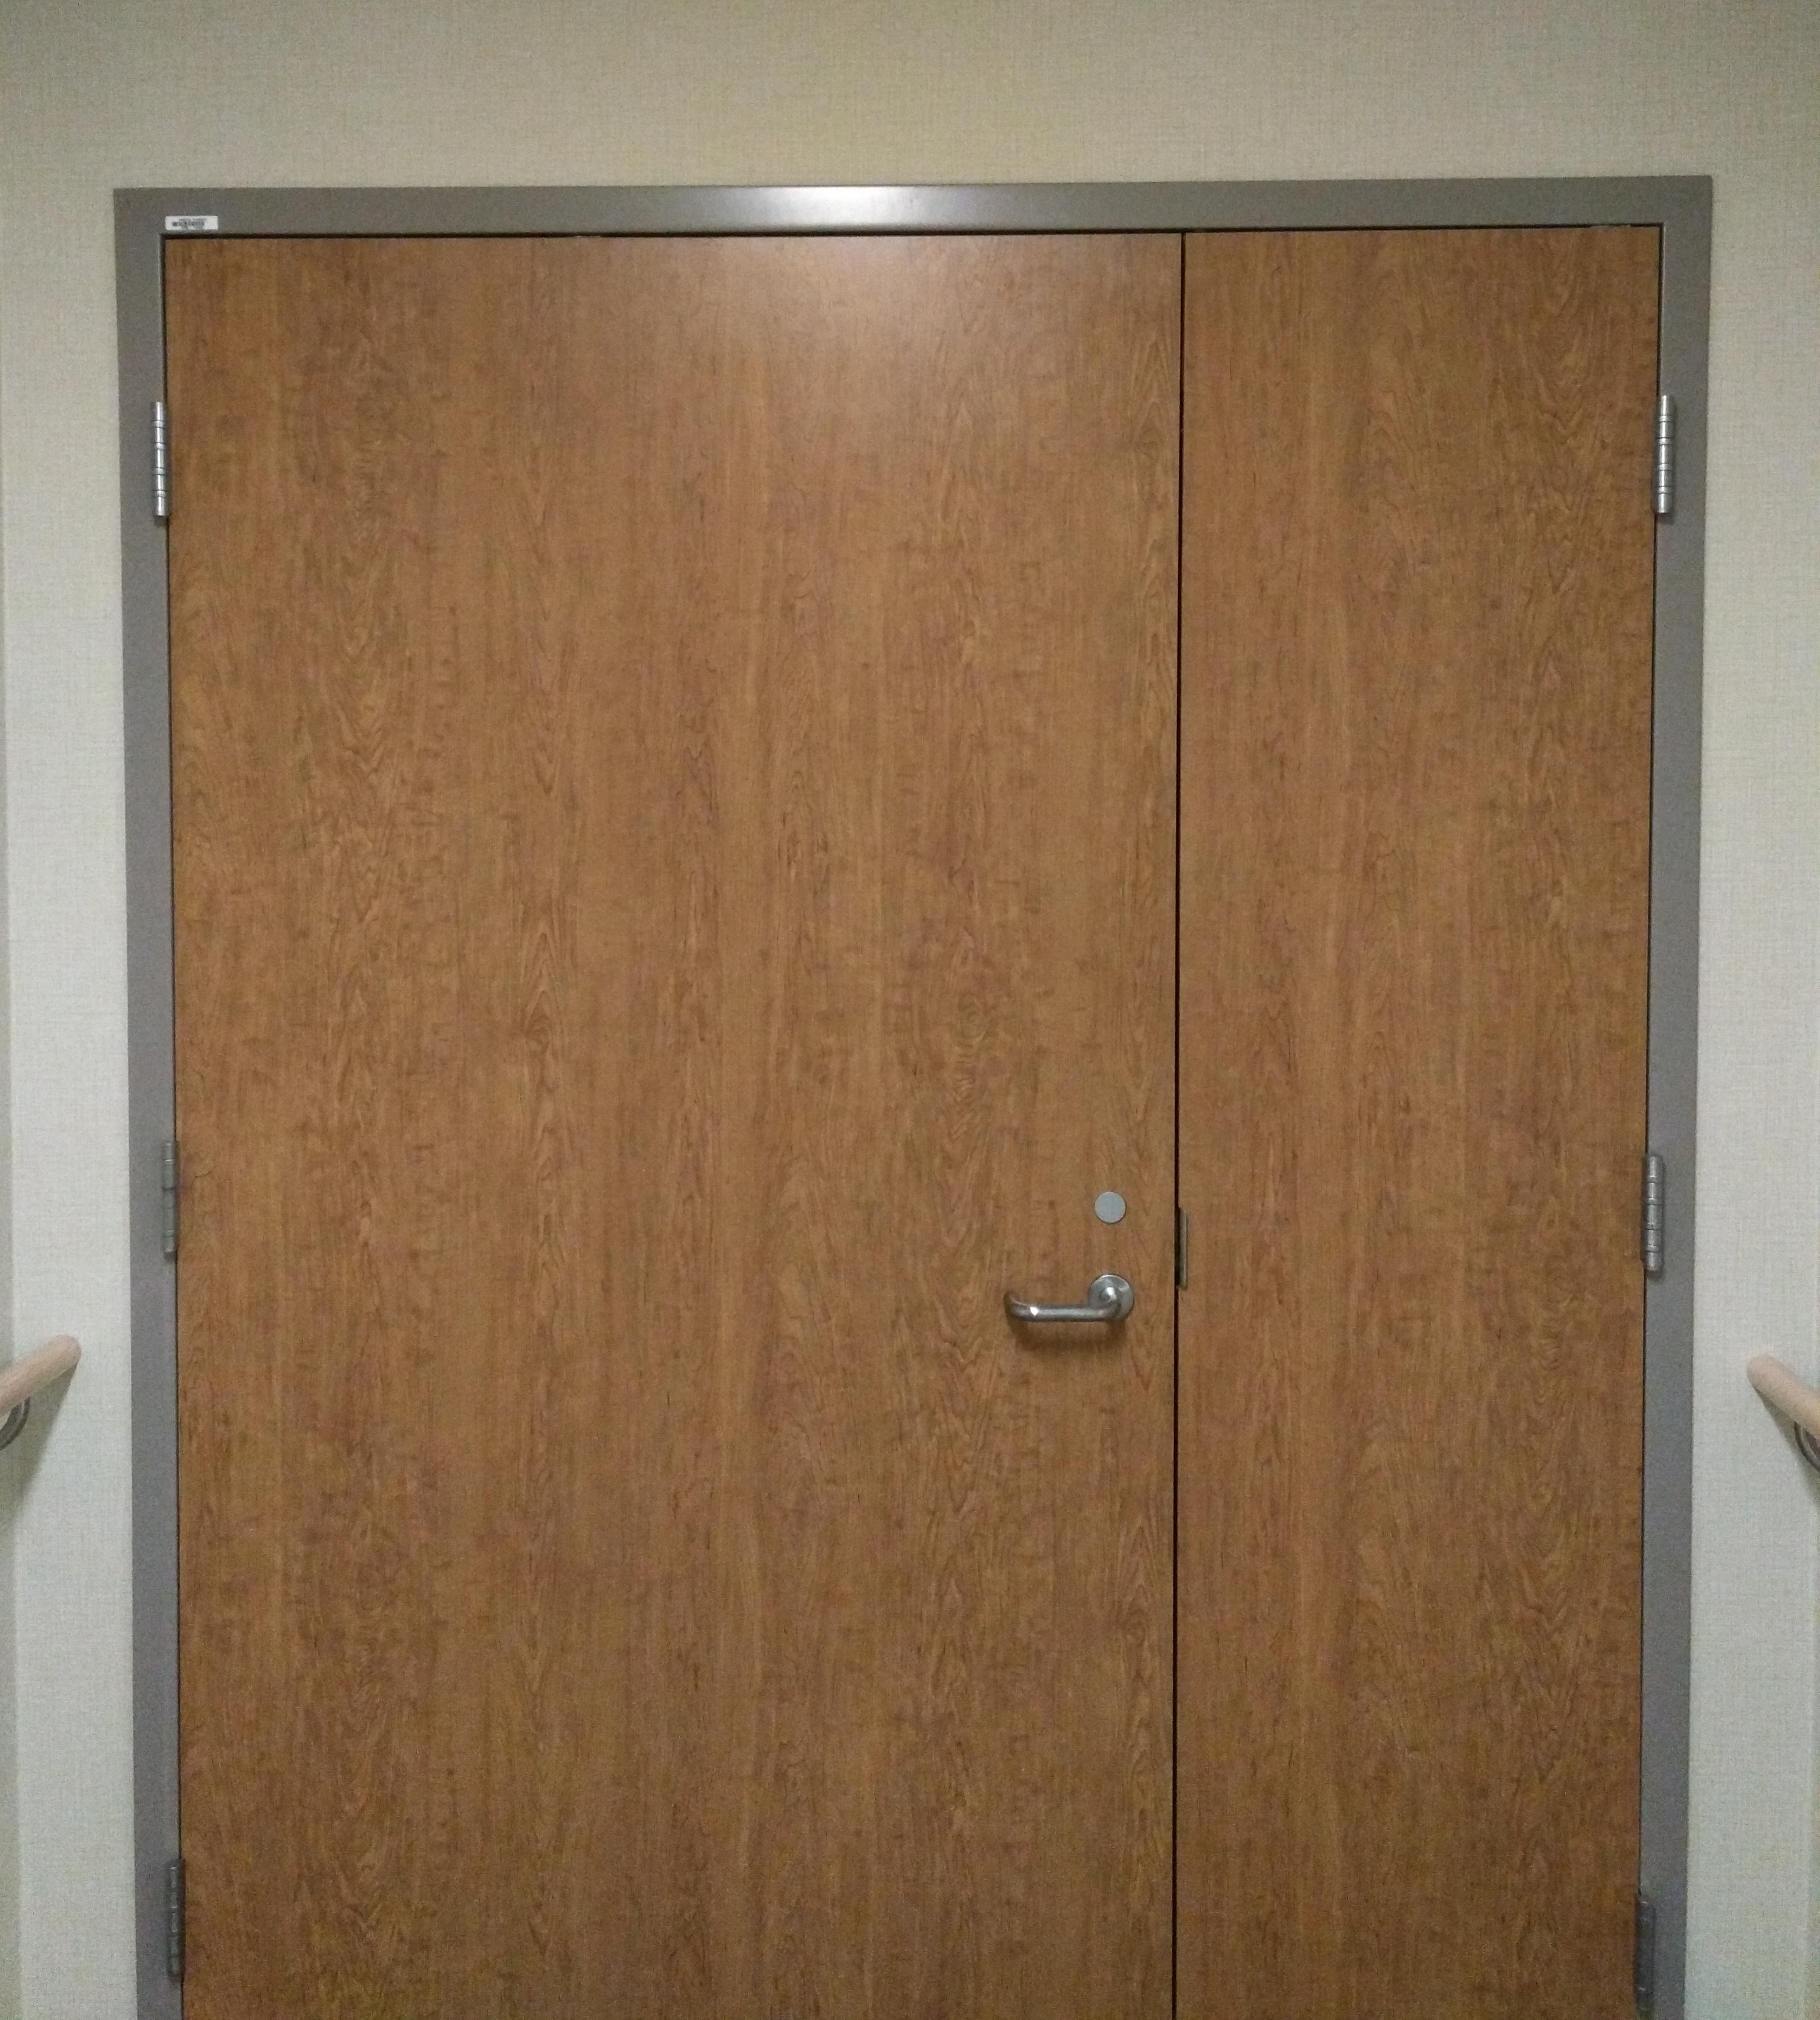door: (134, 200, 1188, 2006)
